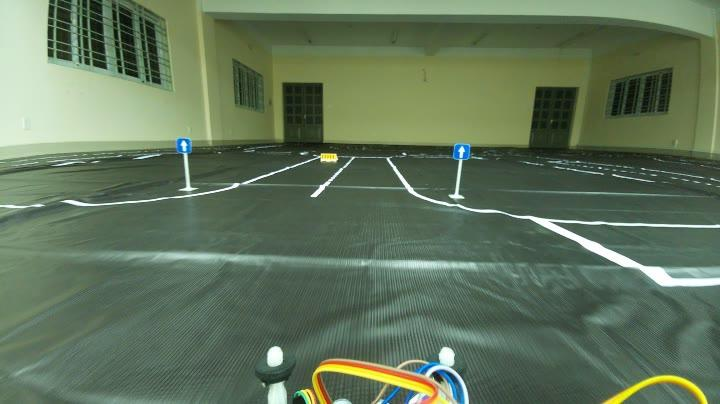onewayroad: (453, 140, 474, 164), (178, 136, 195, 160)
roadblock: (317, 148, 341, 164)
